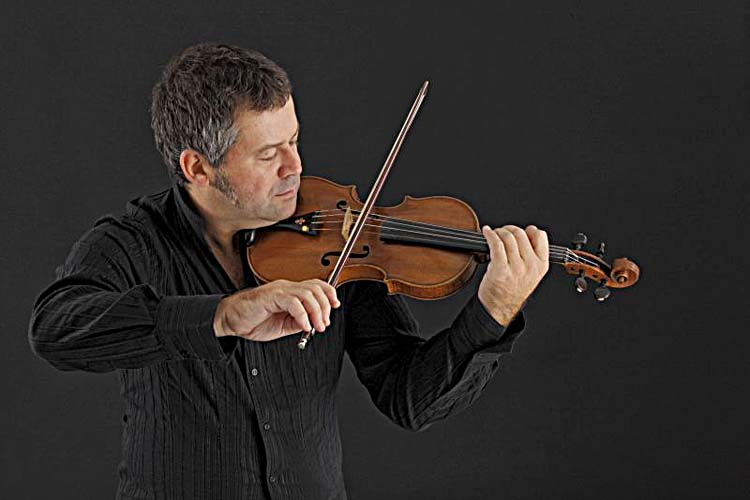violin: (249, 167, 642, 310)
